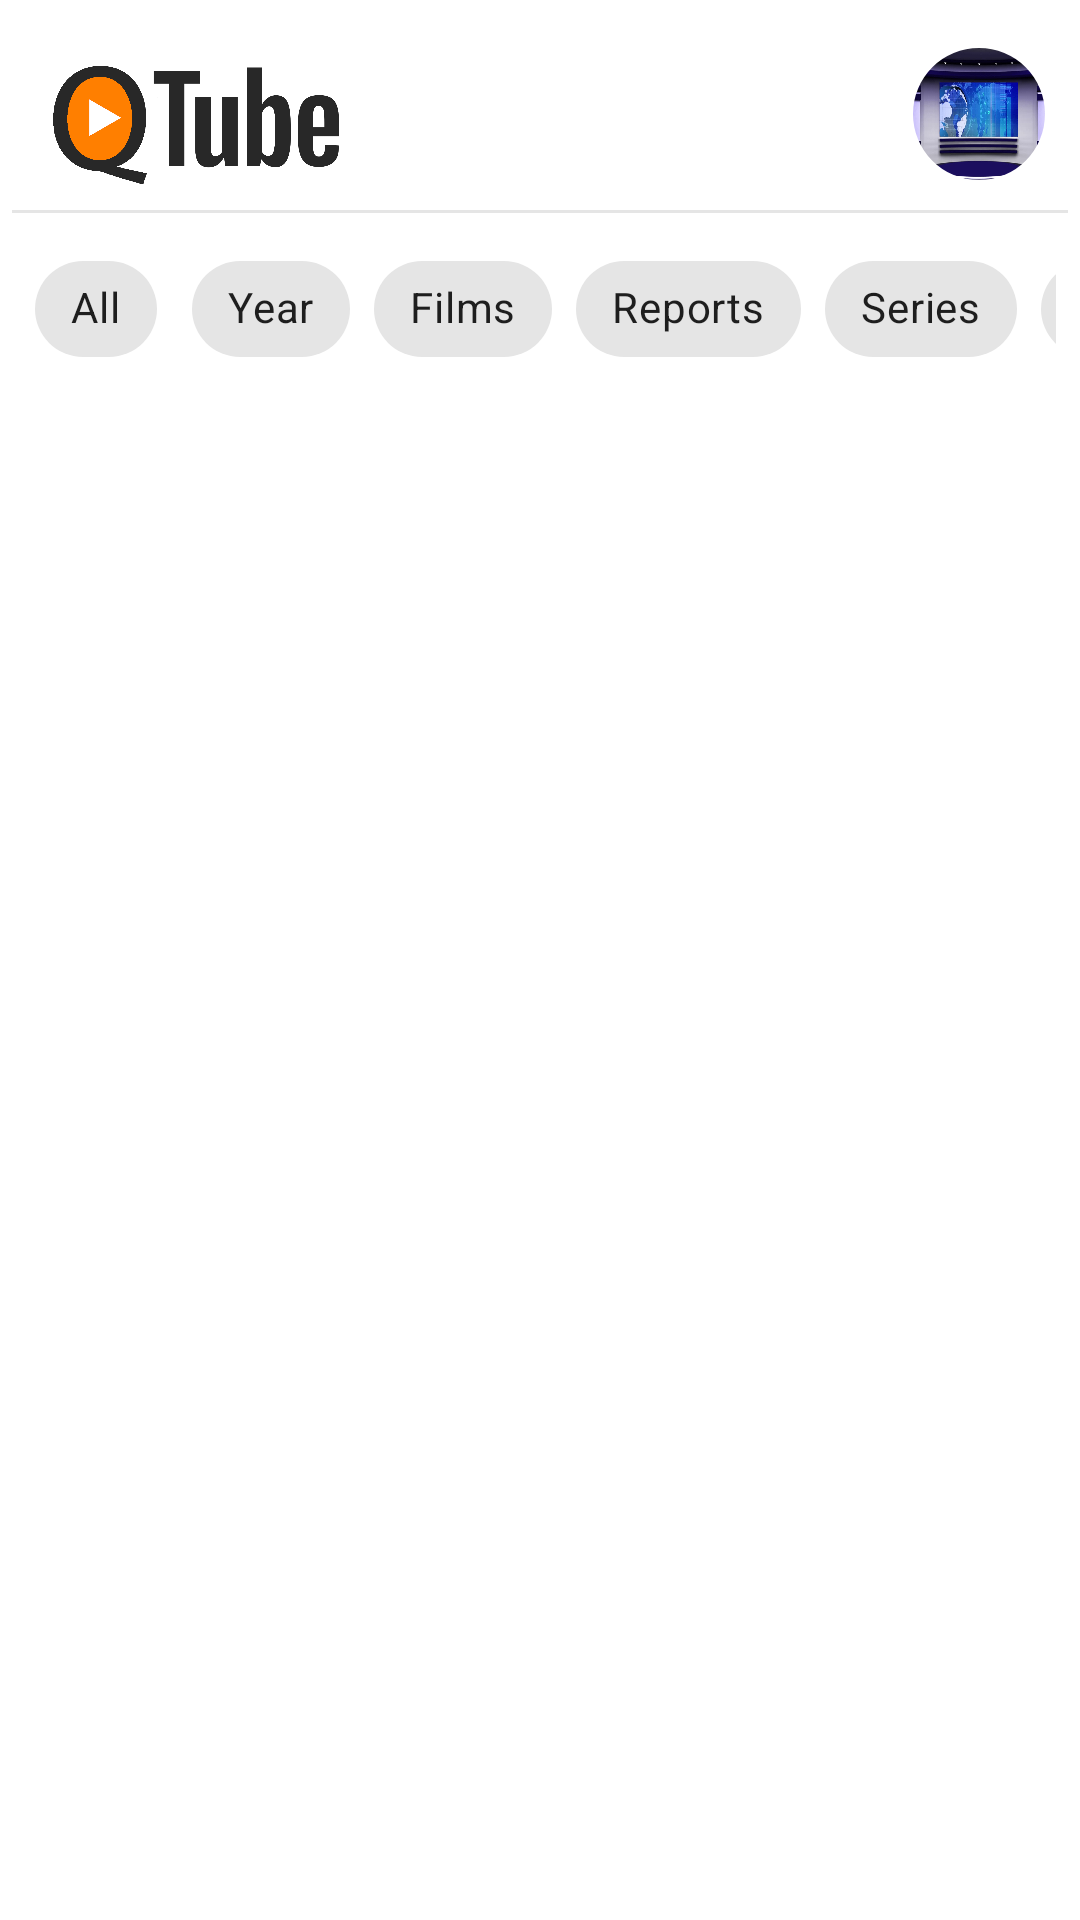

Screen size 1080x1920. Icon name, then its box in pixels as (x1, y1, x2, y2):
photo: (913, 48, 1045, 180)
